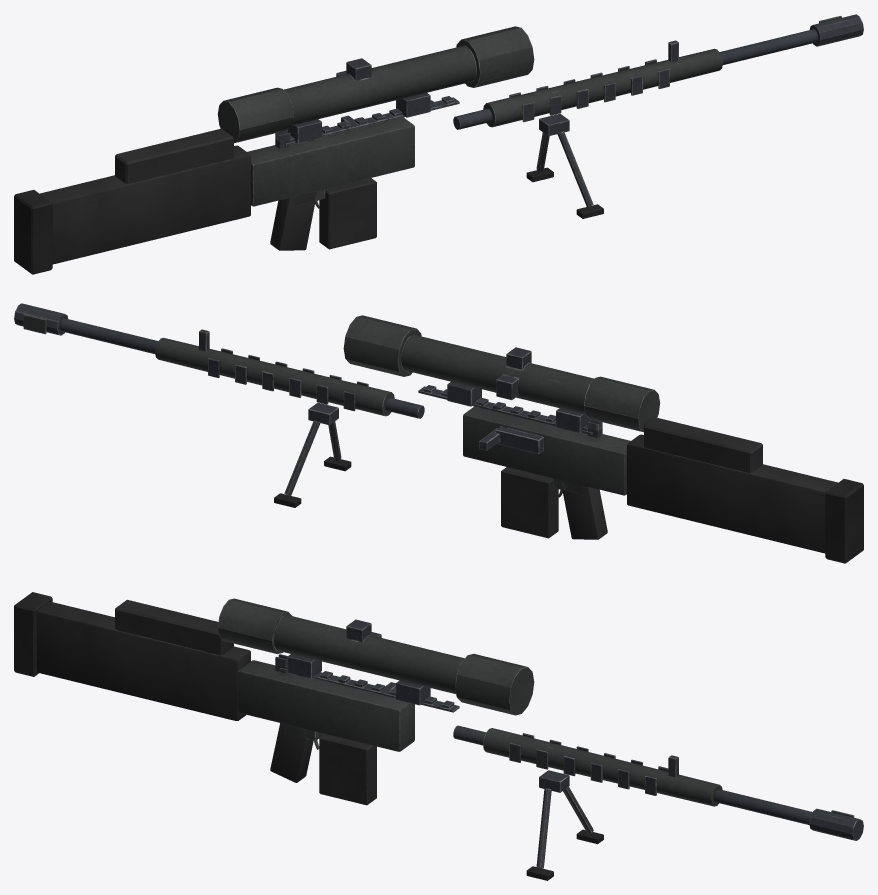
The model's file is weapon_sniper.glb.
3 renders of one model, top to bottom at view 1: azimuth 30°, elevation 25°; view 2: azimuth 150°, elevation 25°; view 3: azimuth 330°, elevation 25°, orthographic.
Visible parts, largest first — view 1: DefaultStock, Body, DefaultOptic, DefaultMag, DefaultGrip, DefaultBarrel, DefaultMuzzle; view 2: DefaultStock, Body, DefaultOptic, DefaultMag, DefaultGrip, DefaultBarrel, DefaultMuzzle; view 3: DefaultStock, Body, DefaultOptic, DefaultMag, DefaultGrip, DefaultBarrel, DefaultMuzzle.
Part boxes in pixels (x1,y1,x2,y2): DefaultStock: [14, 128, 250, 274]; Body: [247, 48, 722, 250]; DefaultOptic: [217, 26, 534, 144]; DefaultMag: [319, 178, 376, 249]; DefaultGrip: [526, 113, 603, 218]; DefaultBarrel: [453, 29, 818, 129]; DefaultMuzzle: [809, 14, 863, 46]; DefaultStock: [627, 417, 863, 563]; Body: [155, 337, 630, 539]; DefaultOptic: [343, 315, 660, 433]; DefaultMag: [501, 467, 558, 538]; DefaultGrip: [274, 402, 351, 507]; DefaultBarrel: [59, 318, 424, 418]; DefaultMuzzle: [14, 303, 68, 335]; DefaultStock: [14, 592, 250, 720]; Body: [238, 660, 722, 806]; DefaultOptic: [217, 598, 534, 715]; DefaultMag: [319, 734, 376, 805]; DefaultGrip: [526, 770, 603, 880]; DefaultBarrel: [453, 725, 812, 824]; DefaultMuzzle: [809, 808, 863, 840].
Size of the model in its own units: 1.54 by 0.3225 by 0.18.
Materials: 1 (1 with a texture image).
